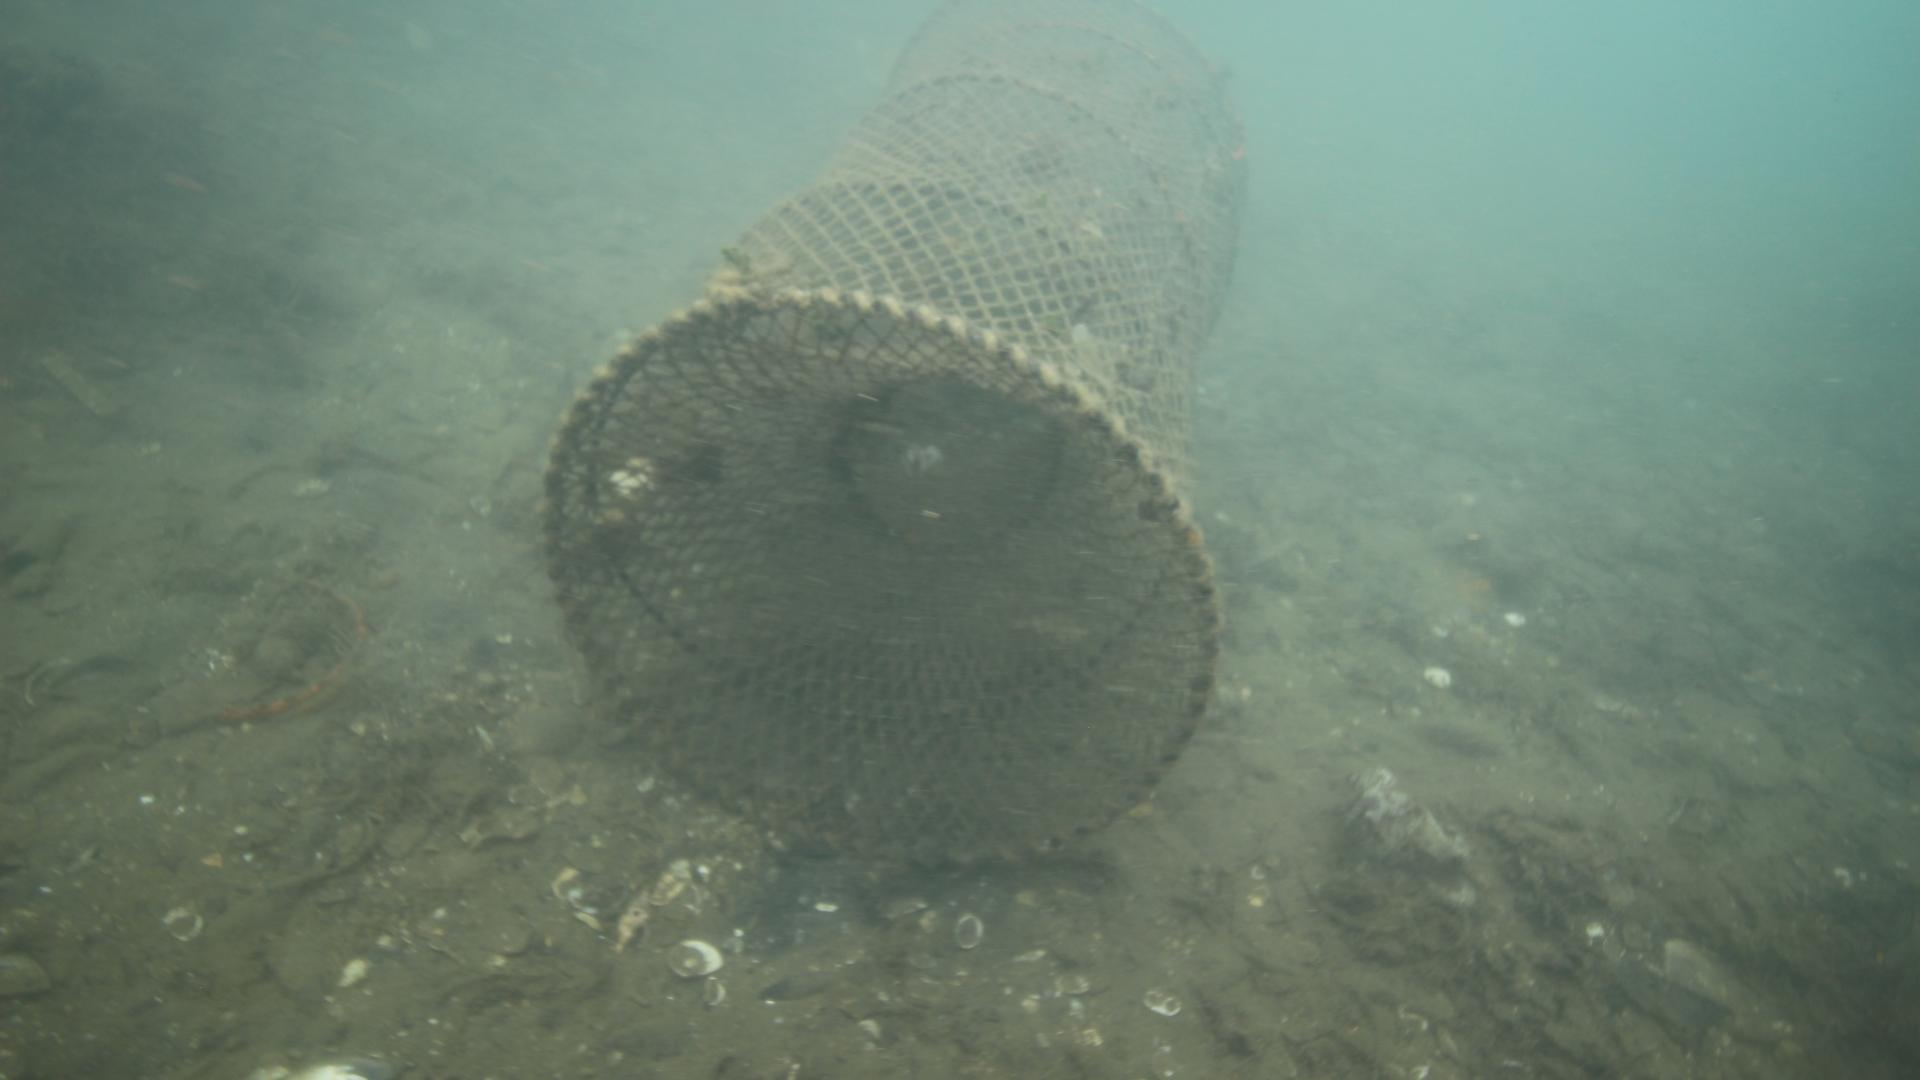spring fish trap: (539, 5, 1247, 864)
